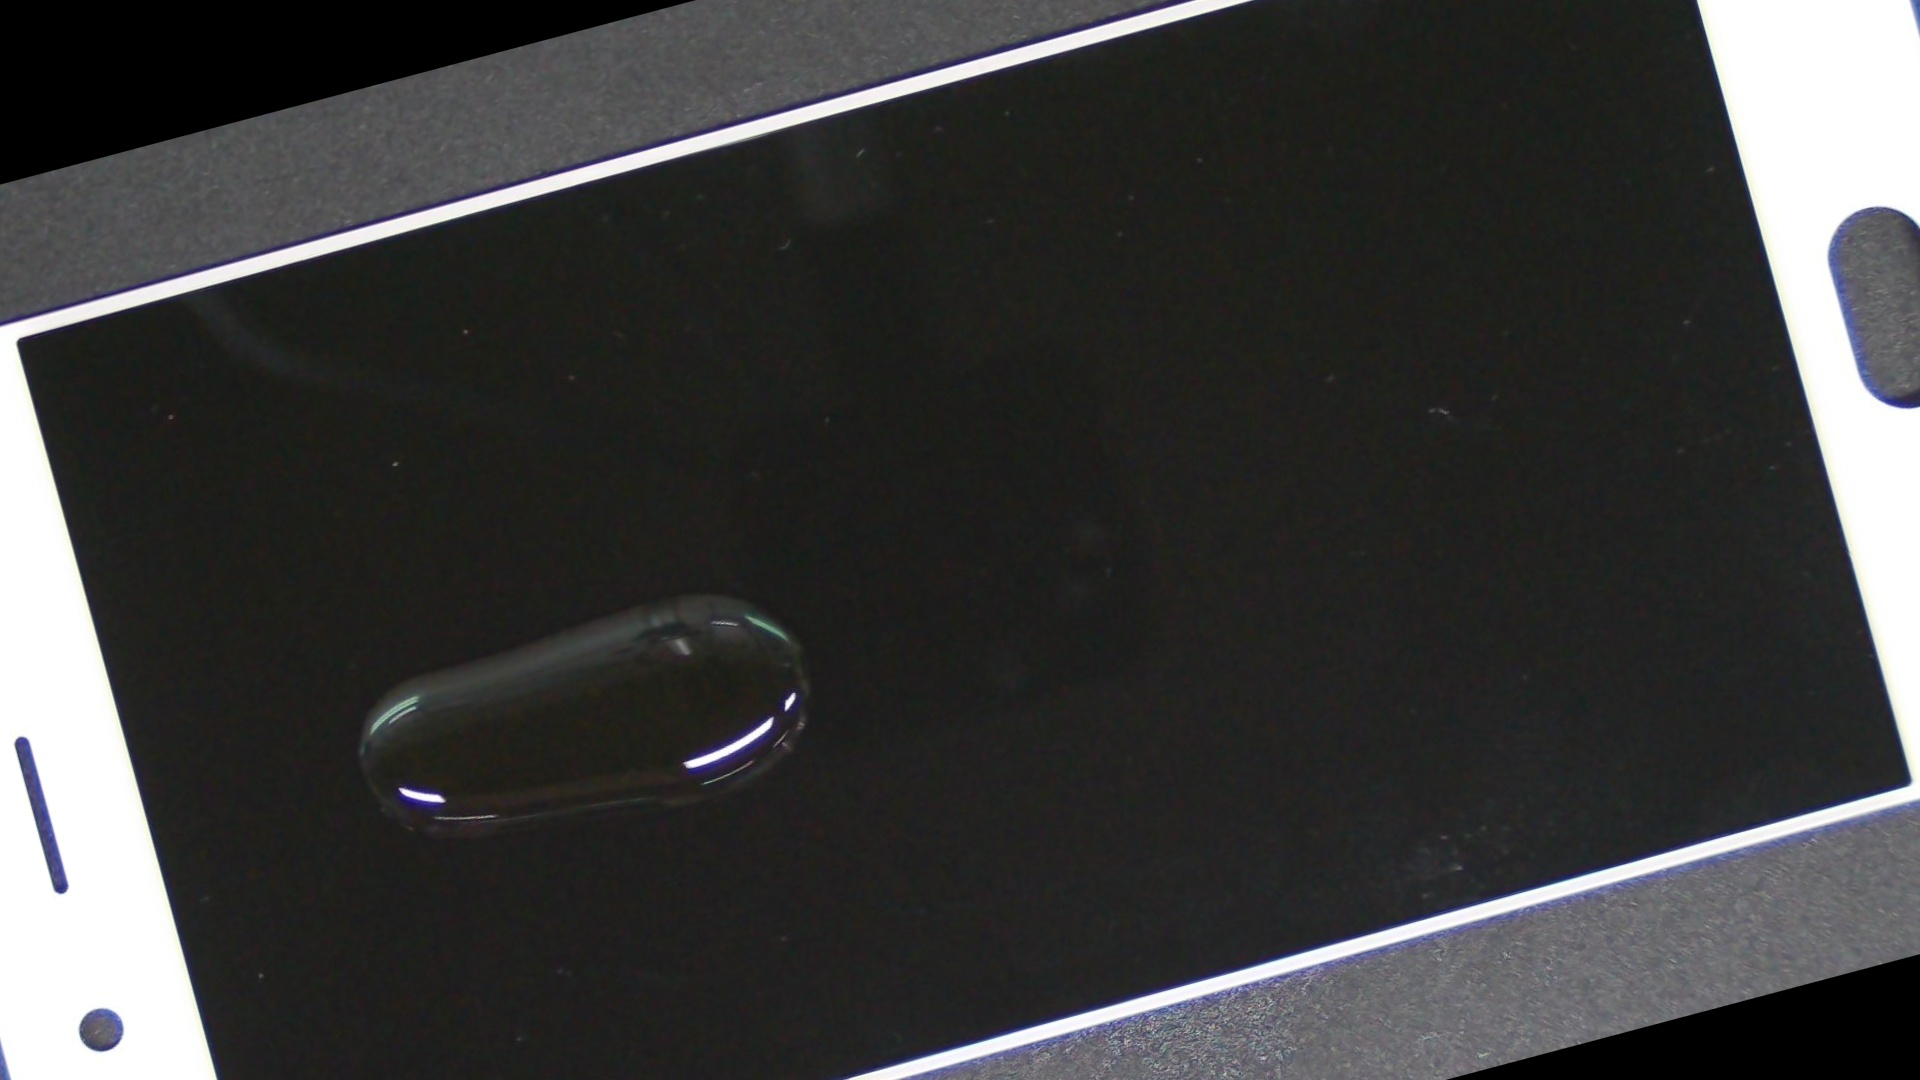oil: (167, 229, 1088, 986)
